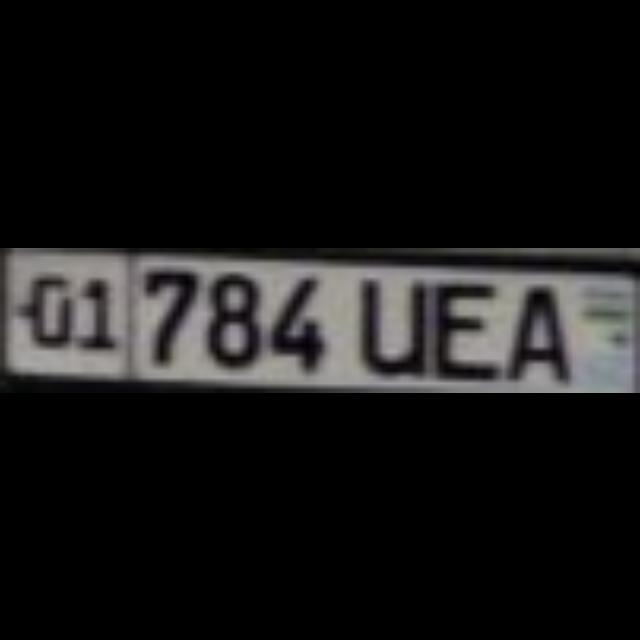0: (25, 266, 63, 336)
1: (70, 266, 108, 342)
4: (260, 266, 322, 368)
7: (140, 260, 190, 360)
8: (197, 266, 260, 362)
A: (494, 272, 564, 373)
E: (424, 272, 494, 373)
U: (348, 272, 418, 368)
